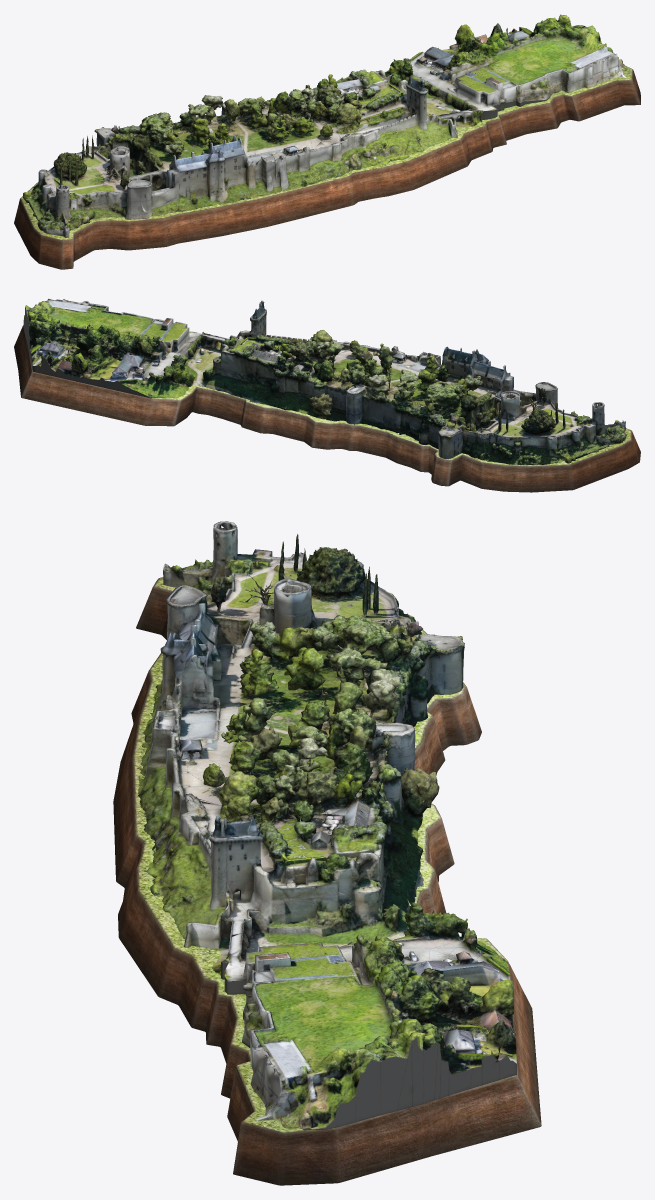
The model's file is maquette.glb.
3 renders of one model, top to bottom at view 1: azimuth 30°, elevation 25°; view 2: azimuth 150°, elevation 25°; view 3: azimuth 270°, elevation 25°, orthographic. The views are drawn at different scales.
Visible parts, largest first — view 1: Maquette3D; view 2: Maquette3D; view 3: Maquette3D.
Part boxes in pixels (left/top/right/bottom): Maquette3D: left=14, top=14, right=640, bottom=269; Maquette3D: left=14, top=298, right=640, bottom=492; Maquette3D: left=113, top=521, right=541, bottom=1185.
Bounding box in the file's own units: 4.19 × 0.5249 × 1.32.
2 materials, 2 textured.
